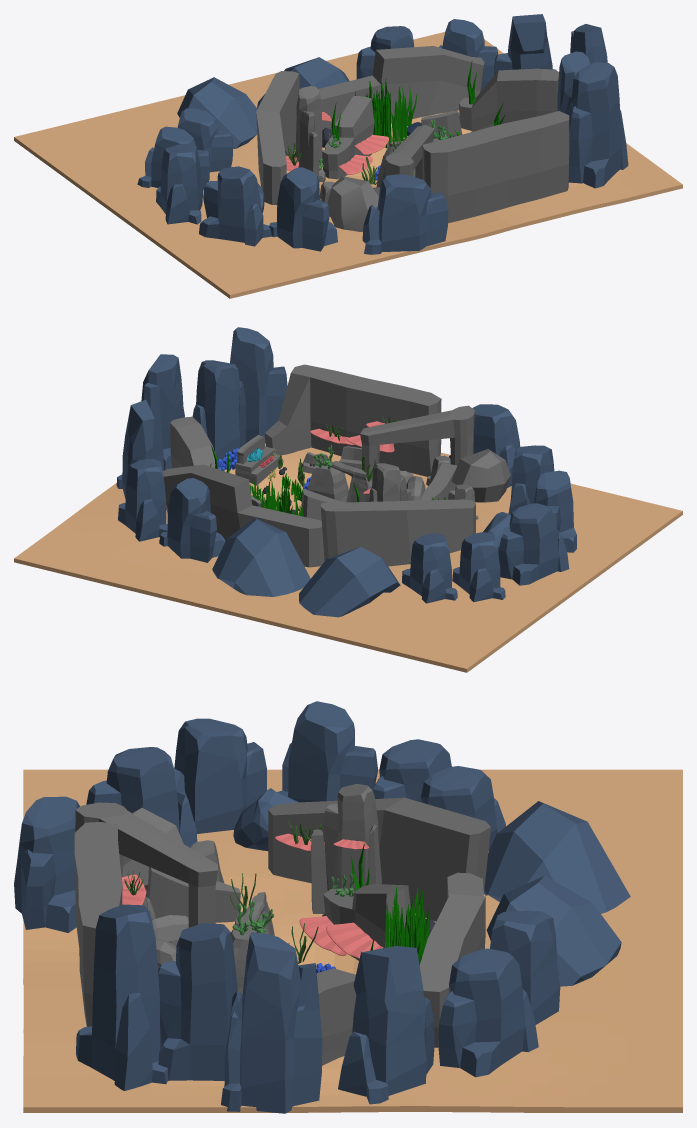
File: enviroment laut dangkal.fbx
The picture shows the model from 3 angles, top to bottom: view 1: azimuth 30°, elevation 25°; view 2: azimuth 150°, elevation 25°; view 3: azimuth 270°, elevation 25°; orthographic projection. The views are drawn at different scales.
Parts seen in each view (by area): view 1: tanah, Cube.018, Cube.010, lp2.002, lp2.016, Cube.009, Cube.005, lp2.008, lp2.004, lp2.009, rock.006, Cube.008 (+15 smaller); view 2: tanah, Cube.018, Cube.005, Cube.010, rock.004, rock.006, lp2.009, lp2.002, lp2.001, lp2.007, Cube.017, lp2.006 (+15 smaller); view 3: tanah, lp2.003, Cube.005, lp2.002, lp2.005, lp2.001, lp2.006, rock.006, lp2.008, lp2.016, lp2.009, rock.004 (+19 smaller).
Boxes of the visible parts, left/top/right/bottom form: tanah: left=14, top=32, right=682, bottom=298; Cube.018: left=422, top=111, right=569, bottom=223; Cube.010: left=318, top=46, right=484, bottom=130; lp2.002: left=568, top=62, right=628, bottom=188; lp2.016: left=362, top=174, right=448, bottom=254; Cube.009: left=459, top=68, right=558, bottom=131; Cube.005: left=256, top=71, right=299, bottom=205; lp2.008: left=199, top=166, right=271, bottom=246; lp2.004: left=269, top=167, right=337, bottom=251; lp2.009: left=156, top=143, right=203, bottom=224; rock.006: left=177, top=77, right=257, bottom=148; Cube.008: left=322, top=96, right=374, bottom=179; tanah: left=14, top=443, right=682, bottom=672; Cube.018: left=265, top=364, right=441, bottom=476; Cube.005: left=320, top=499, right=475, bottom=566; Cube.010: left=162, top=464, right=324, bottom=567; rock.004: left=212, top=518, right=310, bottom=596; rock.006: left=299, top=547, right=400, bottom=617; lp2.009: left=498, top=503, right=569, bottom=585; lp2.002: left=230, top=327, right=287, bottom=443; lp2.001: left=192, top=360, right=246, bottom=459; lp2.007: left=159, top=478, right=225, bottom=562; Cube.017: left=360, top=405, right=474, bottom=480; lp2.006: left=118, top=458, right=167, bottom=541; tanah: left=23, top=769, right=682, bottom=1112; lp2.003: left=221, top=932, right=322, bottom=1113; Cube.005: left=268, top=797, right=490, bottom=921; lp2.002: left=76, top=904, right=168, bottom=1090; lp2.005: left=338, top=946, right=434, bottom=1104; lp2.001: left=158, top=923, right=242, bottom=1080; lp2.006: left=438, top=948, right=538, bottom=1077; rock.006: left=484, top=801, right=630, bottom=913; lp2.008: left=174, top=718, right=266, bottom=833; lp2.016: left=14, top=796, right=79, bottom=932; lp2.009: left=277, top=701, right=378, bottom=802; rock.004: left=486, top=876, right=621, bottom=986.
Size of the model in its own units: 3375 by 909 by 2799.
